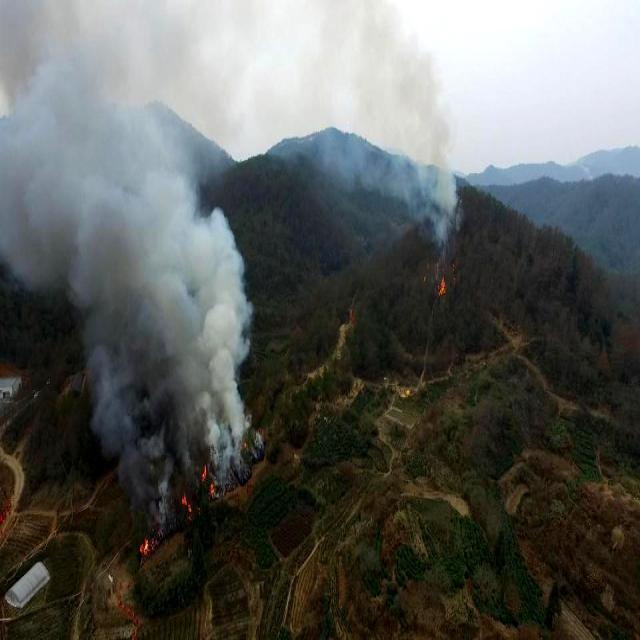Smoke: (11, 30, 258, 468), (357, 18, 467, 239)
